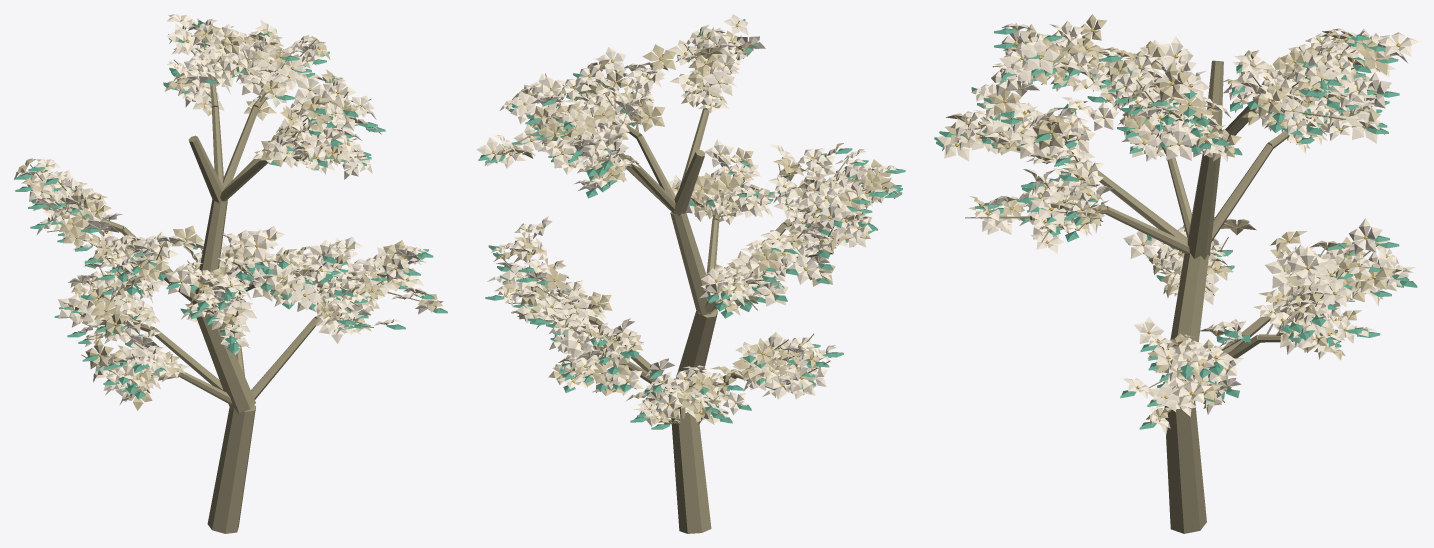
Rendered from reference-public_models_vegetation_white-blossom.glb.
3 renders of one model, left to right at view 1: azimuth 30°, elevation 25°; view 2: azimuth 150°, elevation 25°; view 3: azimuth 270°, elevation 25°, orthographic. The views are drawn at different scales.
Parts seen in each view (by area): view 1: Sunwen_white-blossom; view 2: Sunwen_white-blossom; view 3: Sunwen_white-blossom.
Boxes of the visible parts, x1,y1,x2,y2 form: Sunwen_white-blossom: (14, 14, 447, 533); Sunwen_white-blossom: (476, 14, 905, 533); Sunwen_white-blossom: (934, 14, 1419, 533).
Size of the model in its own units: 4.4 by 5.12 by 4.26.
